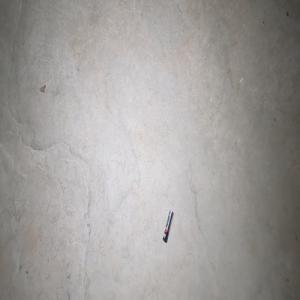Battery: (162, 208, 173, 243)
